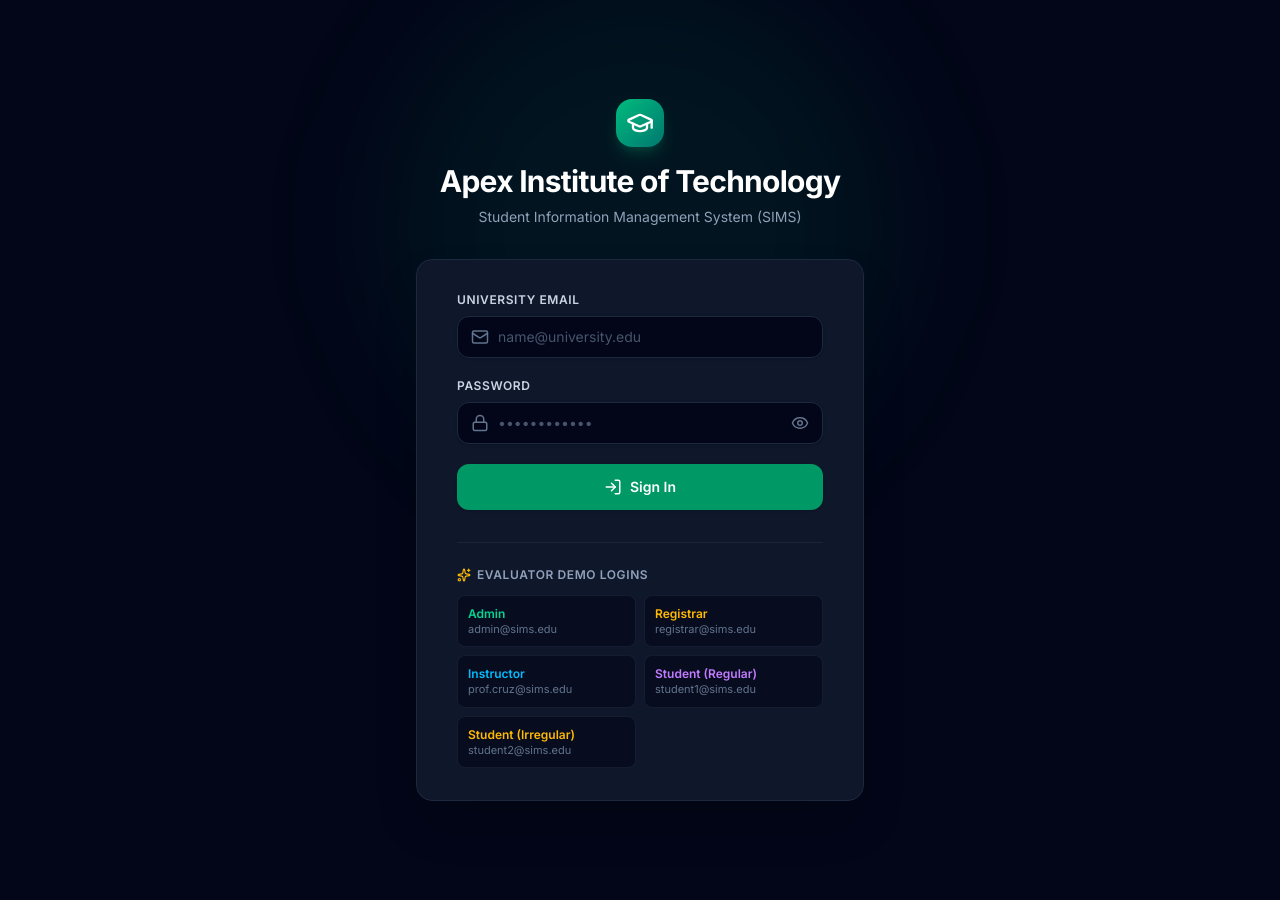
Test: Integrated Application Flows › should authenticate user and navigate to dashboard with active metrics
Type "admin@university.edu" into the field labelled "University Email" at (640, 336), box [457,316,823,358]
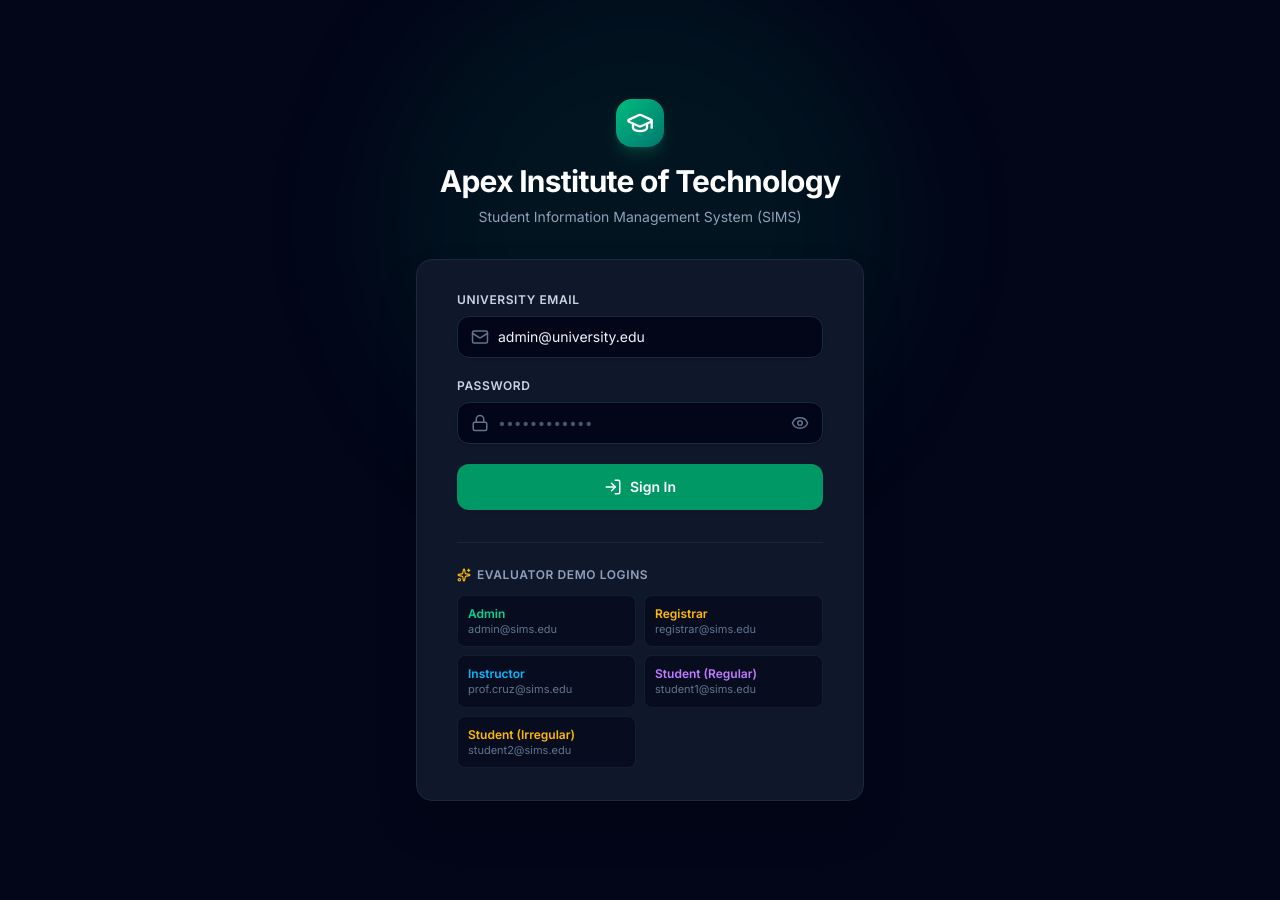
Type "AdminPass123!" into the password field labelled "Password" at (640, 422), box [457,402,823,444]
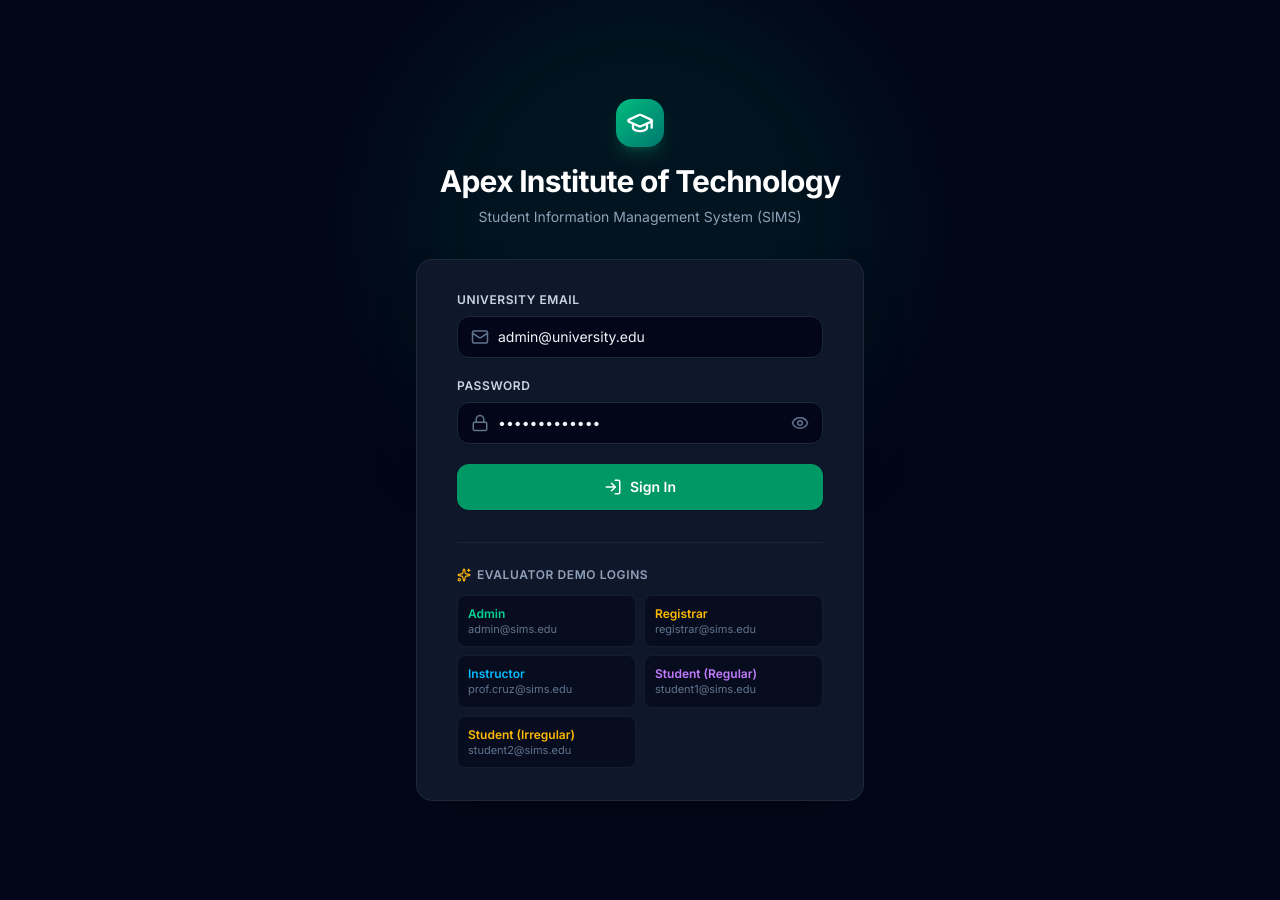
Click the button "Sign In" at (640, 486), box [457,464,823,510]
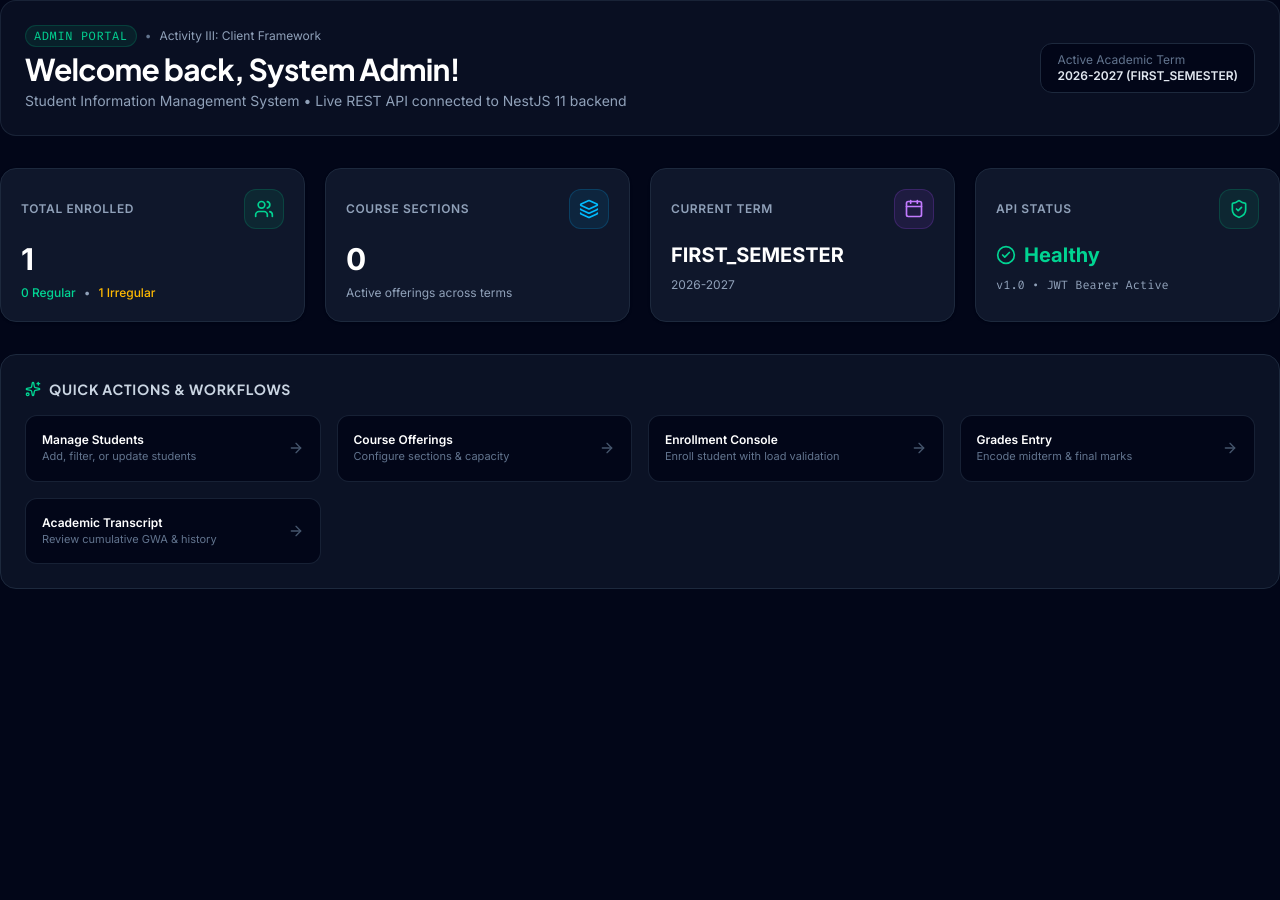
Now the heading "Welcome back, System Admin!" is shown, box [25,50,460,88]
Now the text "2026-2027 (FIRST_SEMESTER)" is shown, box [1058,68,1238,83]
